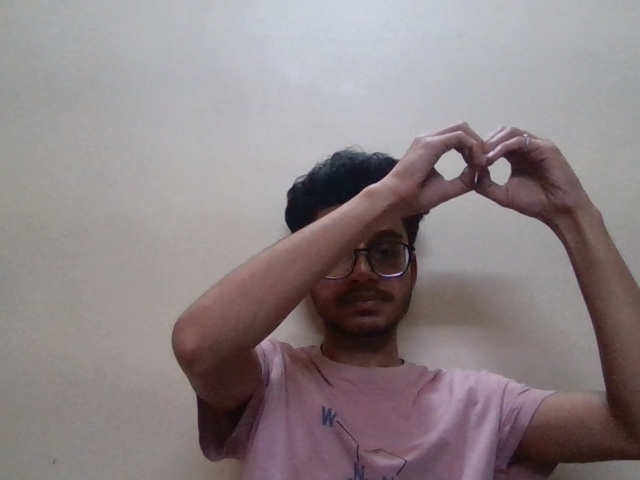see: (385, 117, 585, 243)
